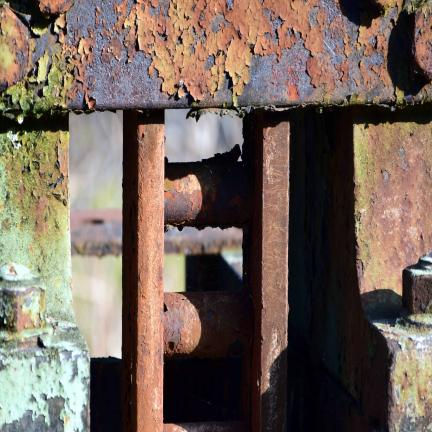karat: (30, 0, 431, 431)
